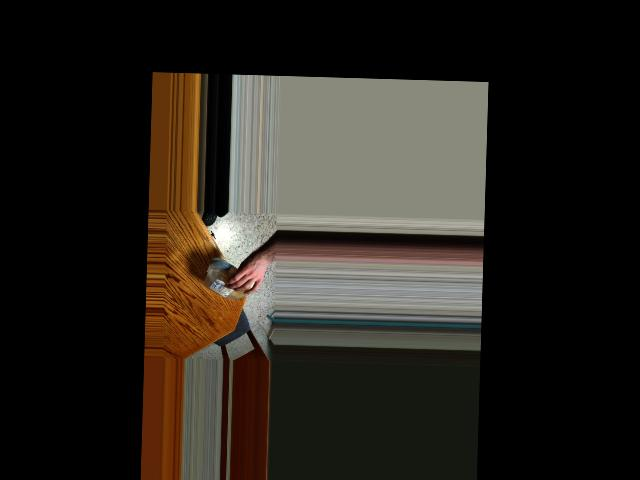cheese: (207, 269, 248, 299)
